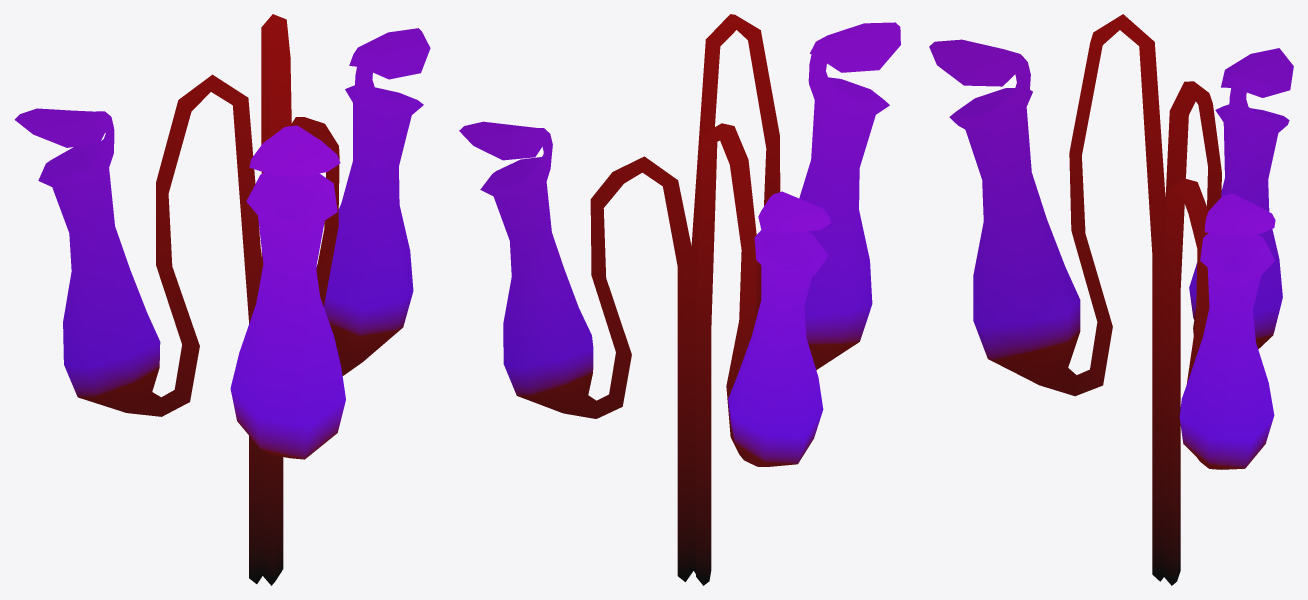
File: SM_Env_Flower_Pitcher_01.glb
The picture shows the model from 3 angles, left to right: view 1: azimuth 30°, elevation 25°; view 2: azimuth 150°, elevation 25°; view 3: azimuth 270°, elevation 25°; orthographic projection. The views are drawn at different scales.
Visible parts, largest first — view 1: SM_Env_Flower_Pitcher_01_LOD0; view 2: SM_Env_Flower_Pitcher_01_LOD0; view 3: SM_Env_Flower_Pitcher_01_LOD0.
Part boxes in pixels (x1,y1,x2,y2): SM_Env_Flower_Pitcher_01_LOD0: [14, 14, 430, 585]; SM_Env_Flower_Pitcher_01_LOD0: [459, 14, 900, 585]; SM_Env_Flower_Pitcher_01_LOD0: [929, 14, 1293, 585].
Size of what is drawn, in the model's own units: 1.79 by 2.55 by 1.51.
